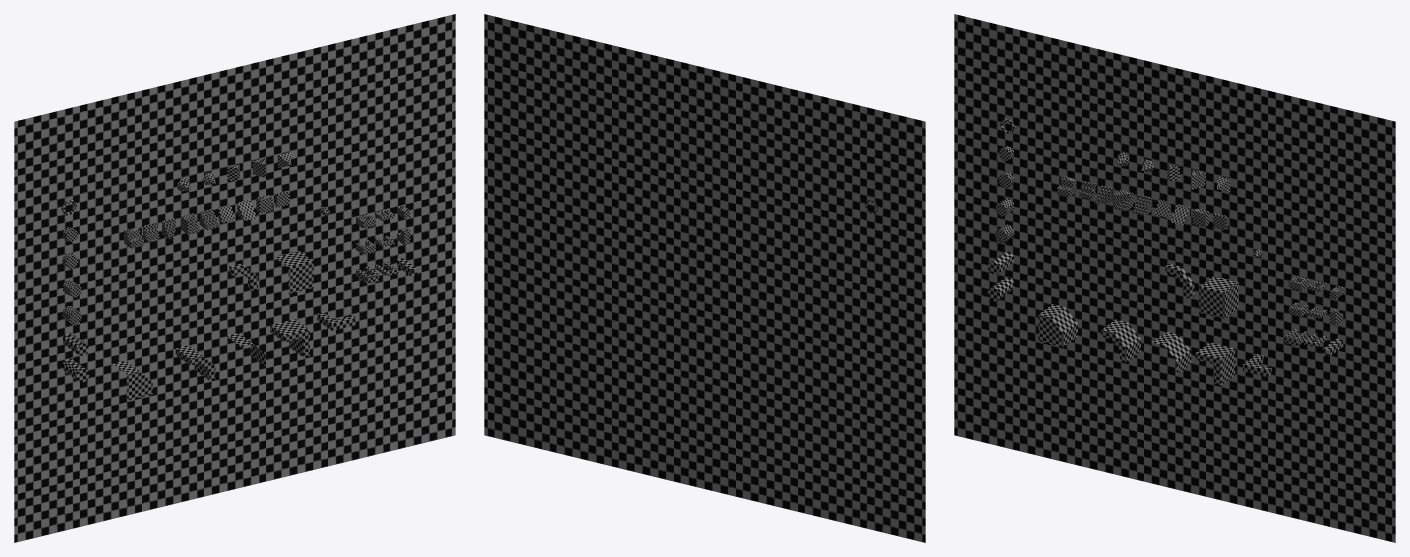
File: TestLevel.fbx
3 renders of one model, left to right at view 1: azimuth 30°, elevation 25°; view 2: azimuth 150°, elevation 25°; view 3: azimuth 330°, elevation 25°, orthographic.
Visible parts, largest first — view 1: ground.002; view 2: ground.002; view 3: ground.002.
Boxes of the visible parts, box(x1,y1,x2,y2) form: ground.002: box(14, 14, 455, 542); ground.002: box(484, 14, 925, 542); ground.002: box(954, 14, 1395, 542).
Bounding box in the file's own units: 7010 × 6396 × 402.
